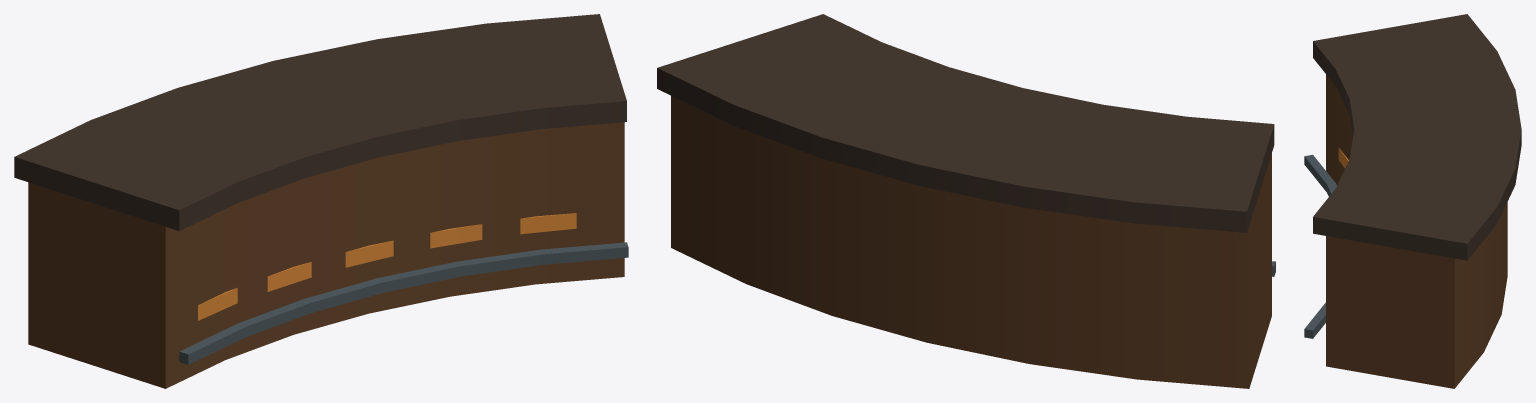
The model's file is curve_bar.glb.
3 renders of one model, left to right at view 1: azimuth 30°, elevation 25°; view 2: azimuth 150°, elevation 25°; view 3: azimuth 270°, elevation 25°, orthographic. The views are drawn at different scales.
Visible parts, largest first — view 1: sw5e_int_curve_bar; view 2: sw5e_int_curve_bar; view 3: sw5e_int_curve_bar.
Boxes of the visible parts, x1=… form: sw5e_int_curve_bar: x1=14, y1=14, x2=628, y2=388; sw5e_int_curve_bar: x1=657, y1=14, x2=1275, y2=388; sw5e_int_curve_bar: x1=1304, y1=14, x2=1521, y2=388.
Bounding box in the file's own units: 2.34 × 0.7 × 0.9351.
